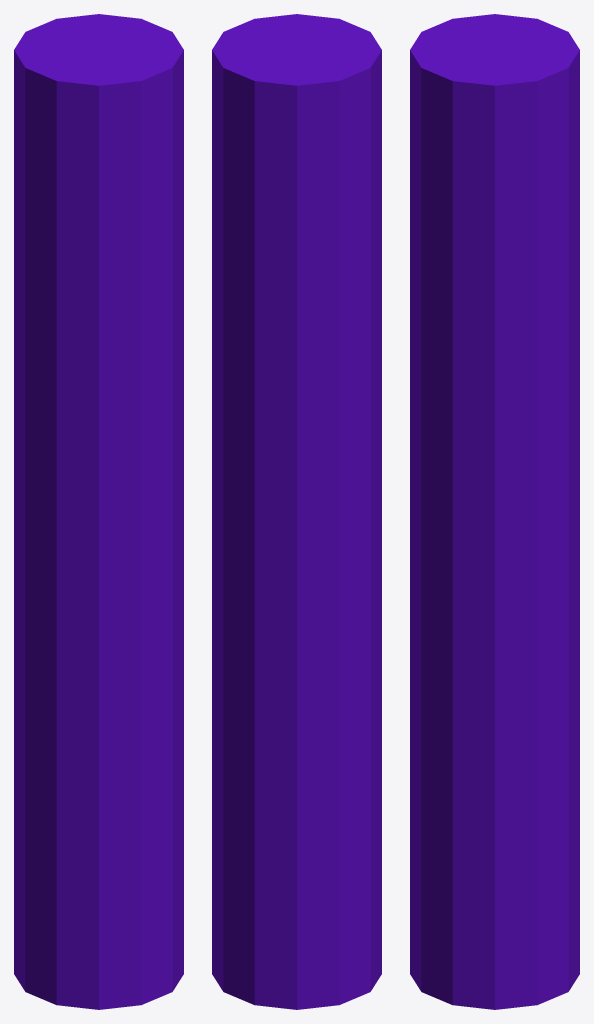
Rendered from pillar_purple.obj.
3 renders of one model, left to right at view 1: azimuth 30°, elevation 25°; view 2: azimuth 150°, elevation 25°; view 3: azimuth 270°, elevation 25°, orthographic.
Visible parts, largest first — view 1: Cylinder; view 2: Cylinder; view 3: Cylinder.
Boxes of the visible parts, x1,y1,x2,y2 form: Cylinder: [14, 14, 183, 1009]; Cylinder: [212, 14, 381, 1009]; Cylinder: [410, 14, 579, 1009].
Size of the model in its own units: 2 by 12 by 2.
